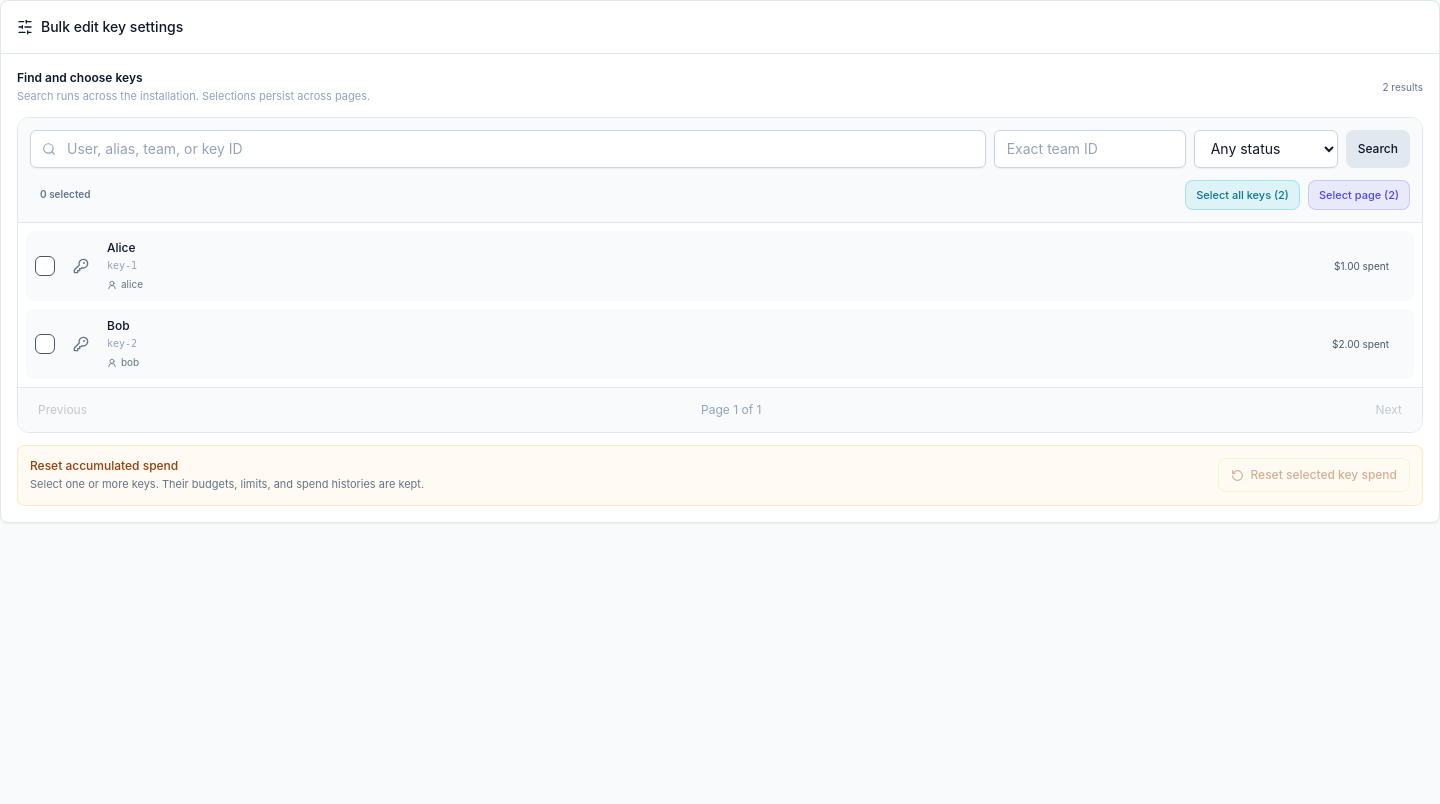
Test: BulkKeyEditor › resets drafts when the selected keys change instead of carrying one key's edits to another
Click the checkbox named "Select Alice". click: (81,266)
box: [35, 232, 1397, 300]
(page scrolled)
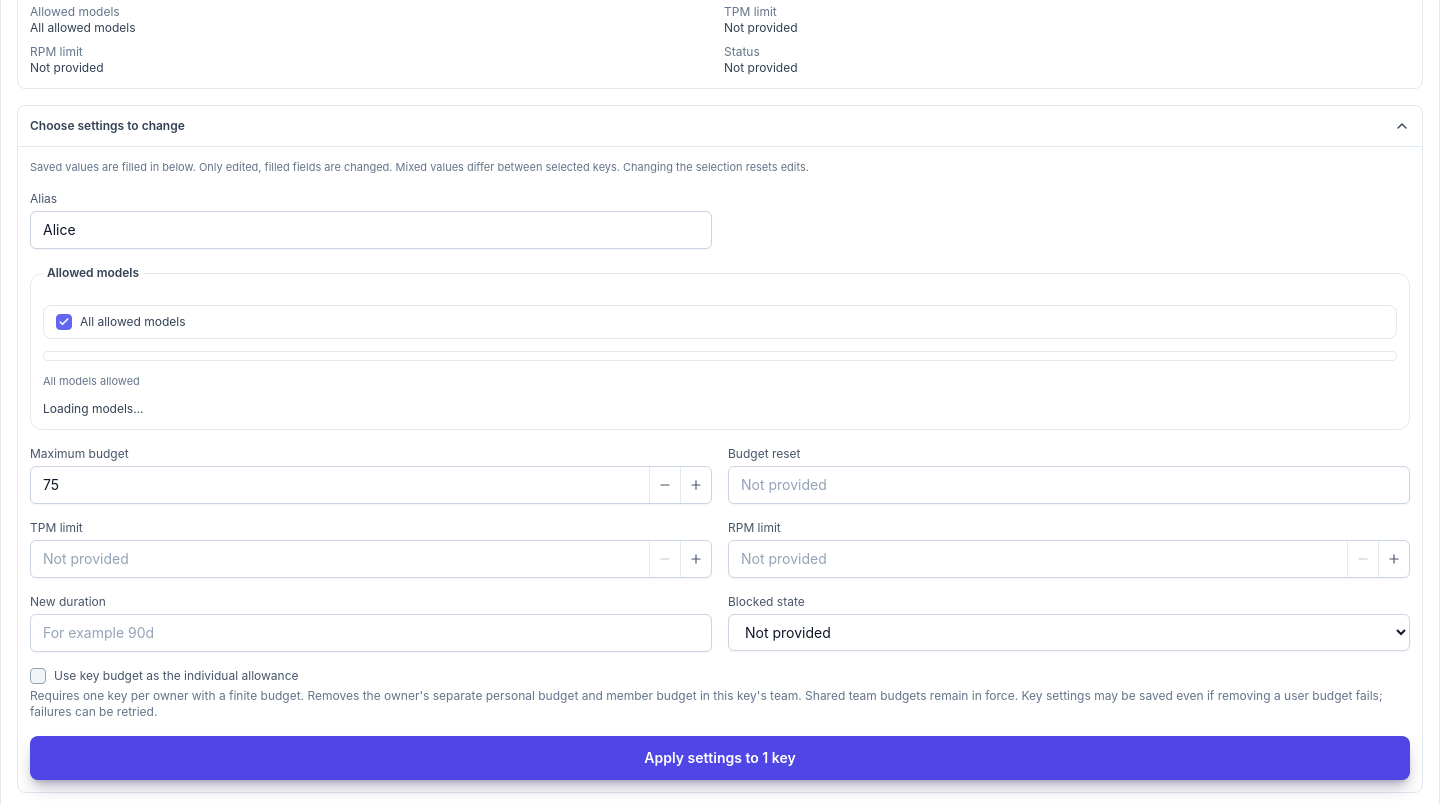
Type "500" into the number field labelled "Maximum budget". click: (340,485)
box: [31, 467, 649, 503]
(page scrolled)
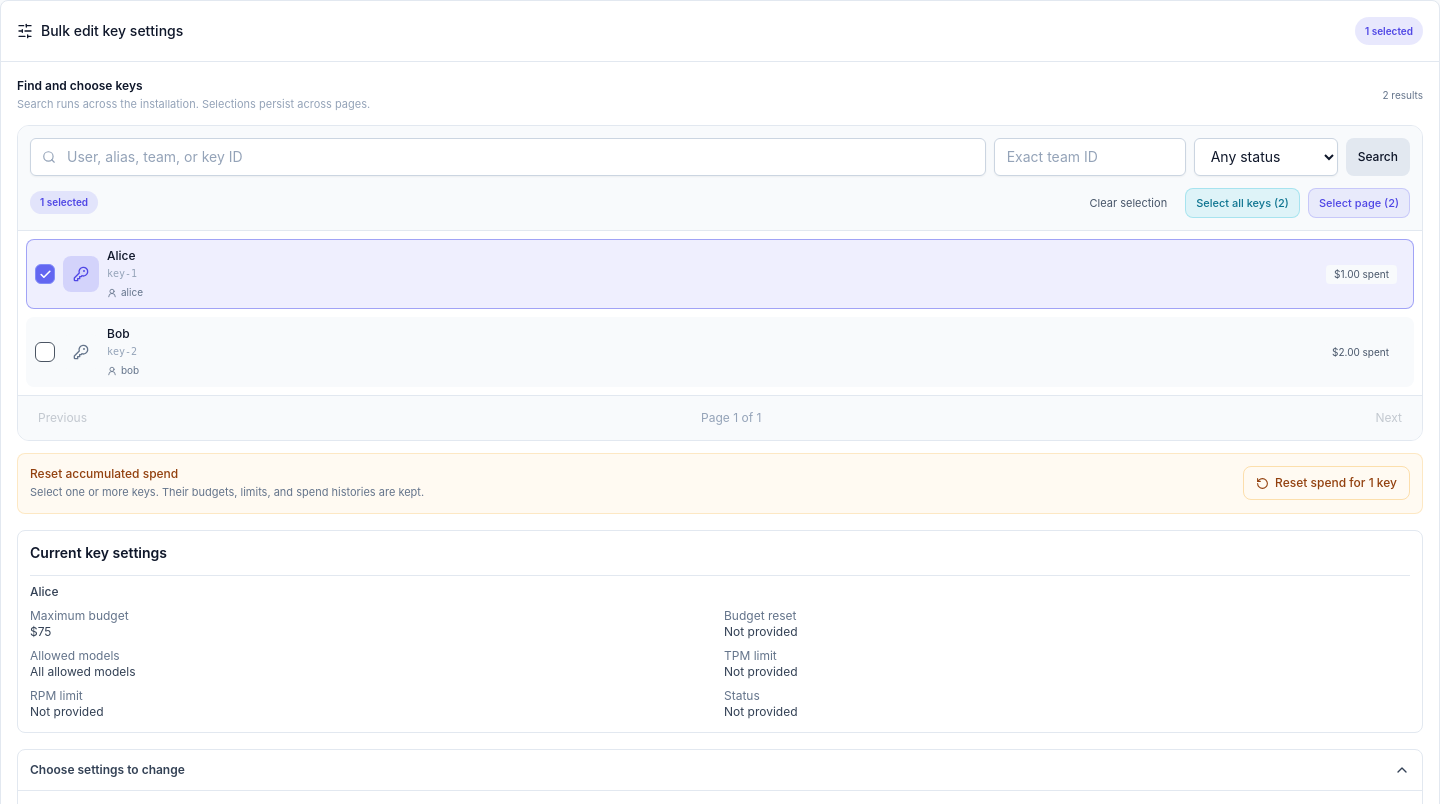
Click the checkbox named "Deselect Alice". click: (81,274)
box: [35, 240, 1397, 308]
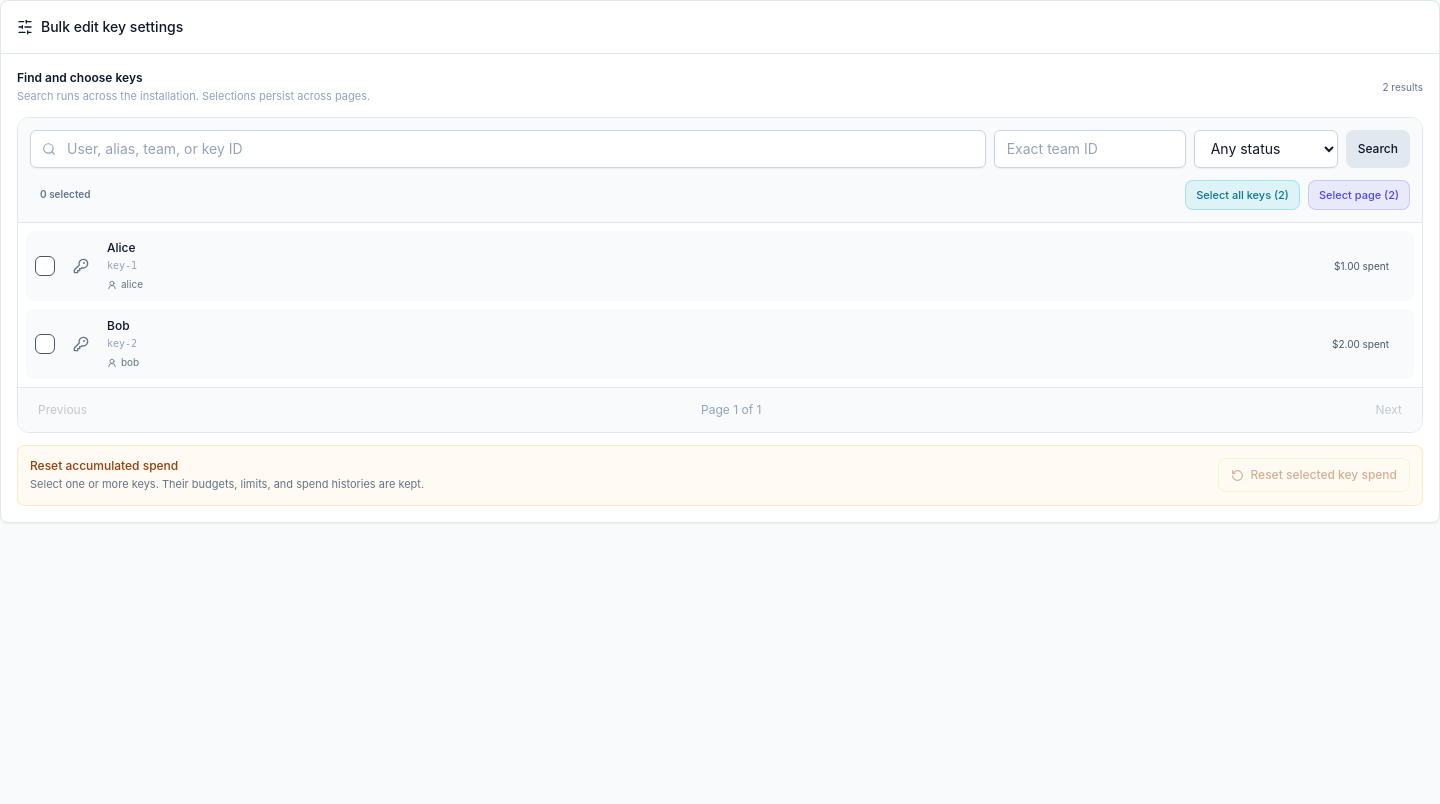
Click the checkbox named "Select Bob". click: (81,344)
box: [35, 310, 1397, 378]
(page scrolled)
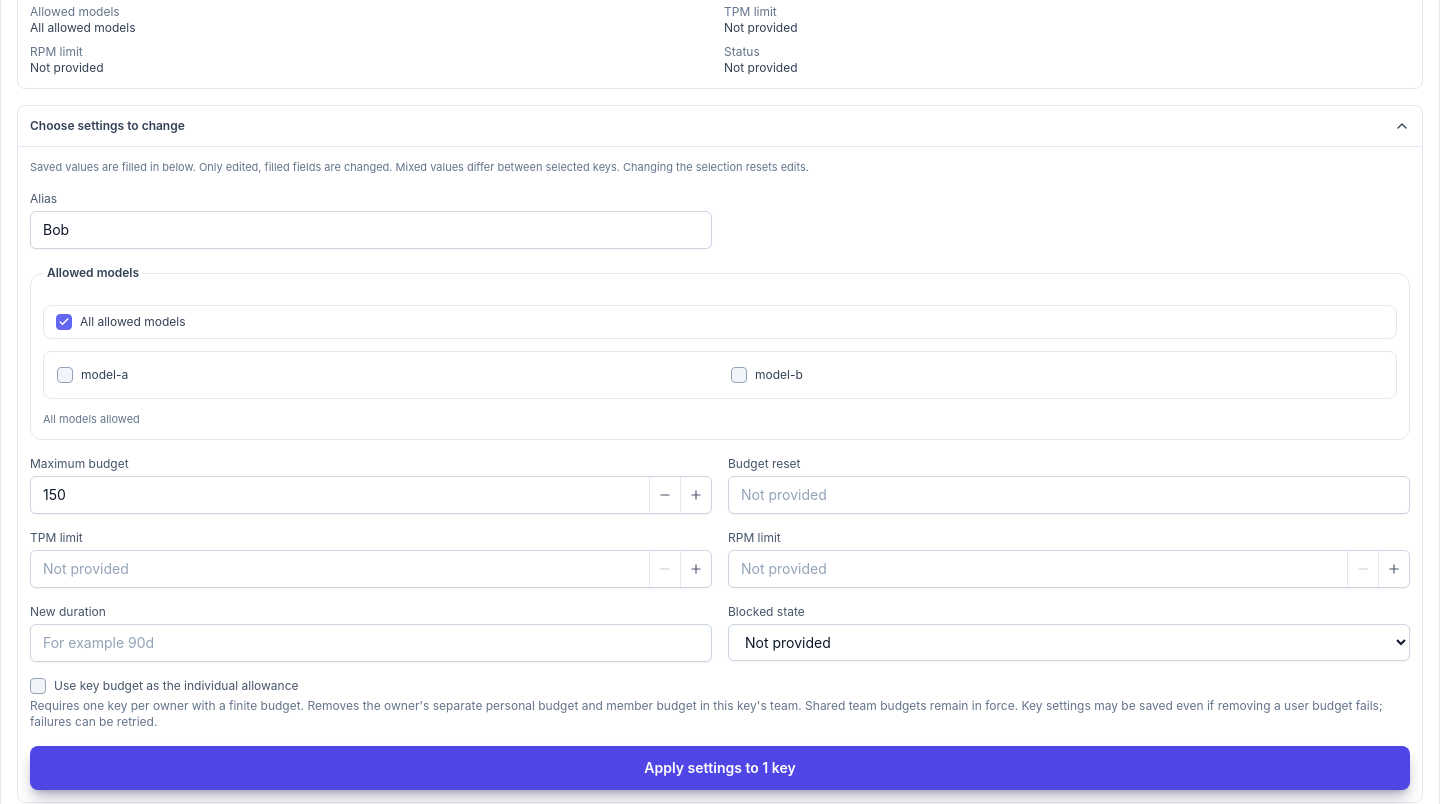
Expected: the field labelled "Alias" holds "Bob", [30, 211, 712, 249]
Expected: the number field labelled "Maximum budget" holds "150", [31, 477, 649, 513]
